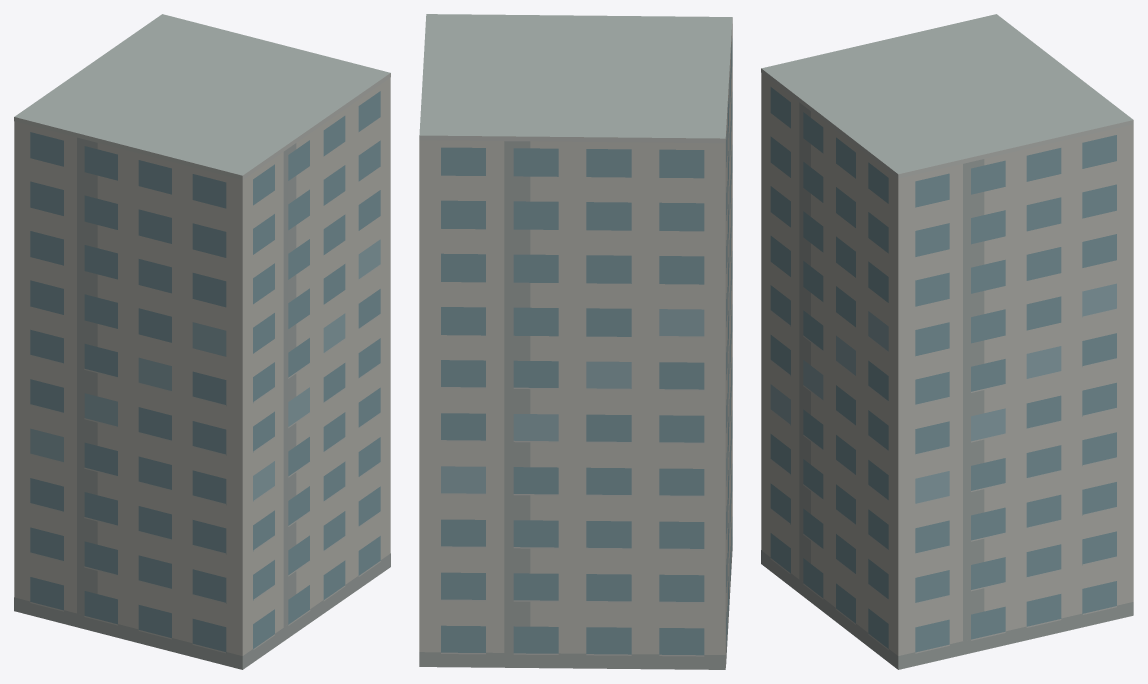
The model's file is residential-c7780a6d-f626-4832-985a-fa1681af50be.glb.
3 renders of one model, left to right at view 1: azimuth 30°, elevation 25°; view 2: azimuth 150°, elevation 25°; view 3: azimuth 270°, elevation 25°, orthographic. The views are drawn at different scales.
Visible parts, largest first — view 1: residential-c7780a6d-f626-4832-985a-fa1681af50be.tmp; view 2: residential-c7780a6d-f626-4832-985a-fa1681af50be.tmp; view 3: residential-c7780a6d-f626-4832-985a-fa1681af50be.tmp.
Part boxes in pixels (box(x1,y1,x2,y2)): residential-c7780a6d-f626-4832-985a-fa1681af50be.tmp: box(14, 14, 390, 669); residential-c7780a6d-f626-4832-985a-fa1681af50be.tmp: box(419, 14, 732, 669); residential-c7780a6d-f626-4832-985a-fa1681af50be.tmp: box(761, 14, 1133, 669).
Bounding box in the file's own units: 18.74 × 27 × 18.4.
